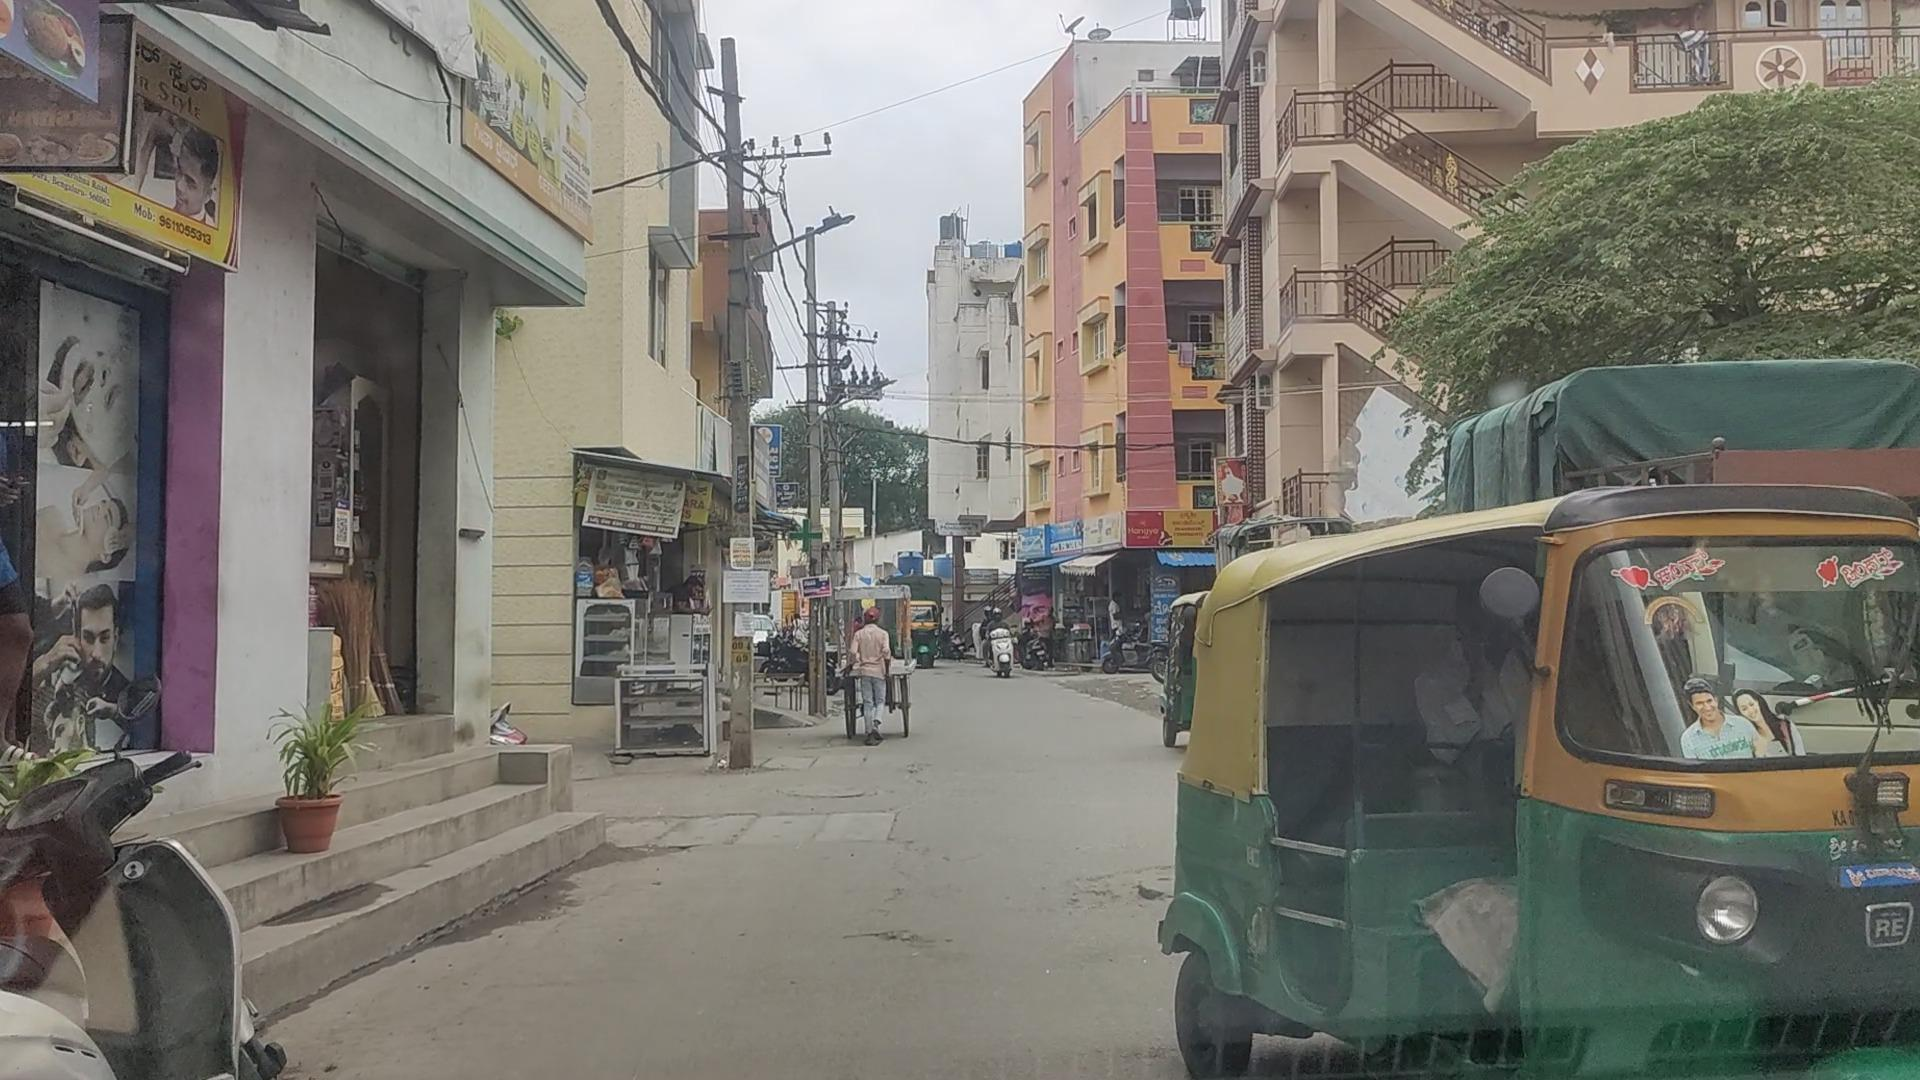LMV: (1146, 535, 1920, 1080)
RoadDamages: (630, 808, 889, 865)
